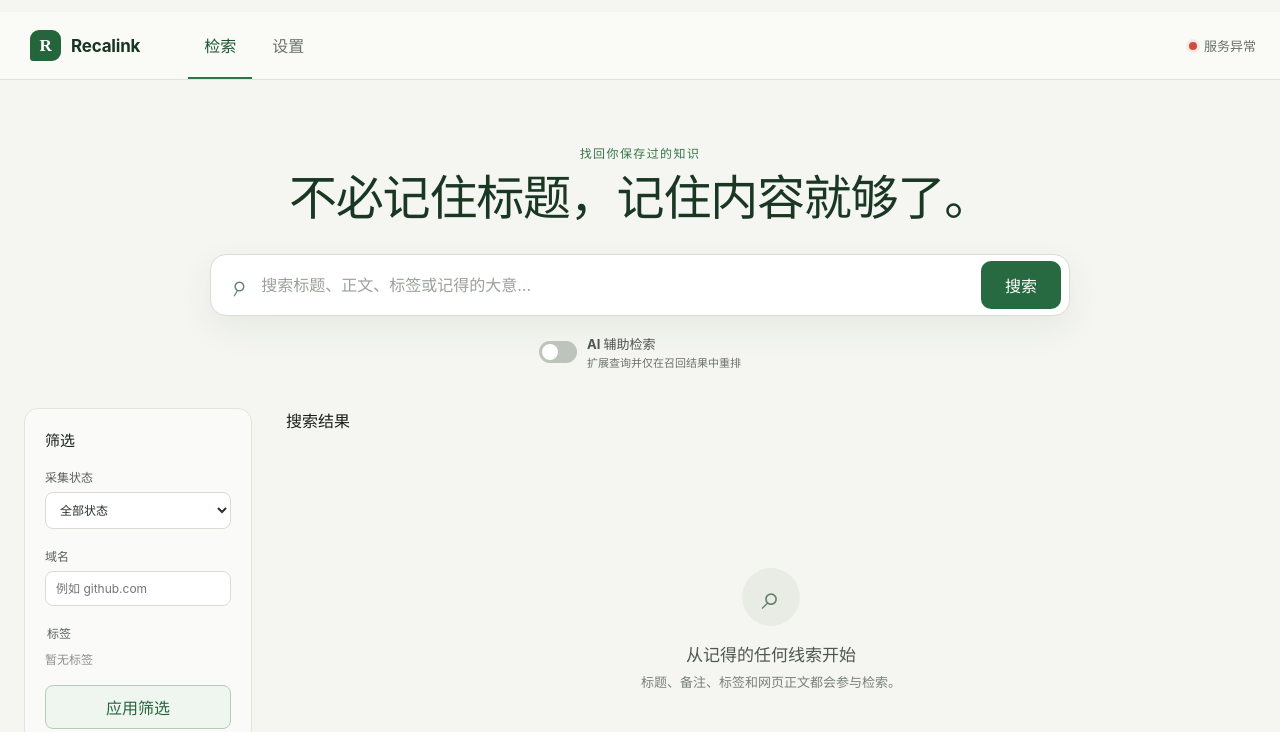
App › searches bookmarks and displays the matched snippet
Expected: the button "R Recalink" is shown, left=24, top=29, right=146, bottom=62
Expected: the text with class "brand-mark" reads "R", left=40, top=36, right=52, bottom=54
Type "索引未使用" into the field with placeholder "搜索标题、正文、标签或记得的大意…" at point(614, 285), box left=259, top=274, right=969, bottom=296
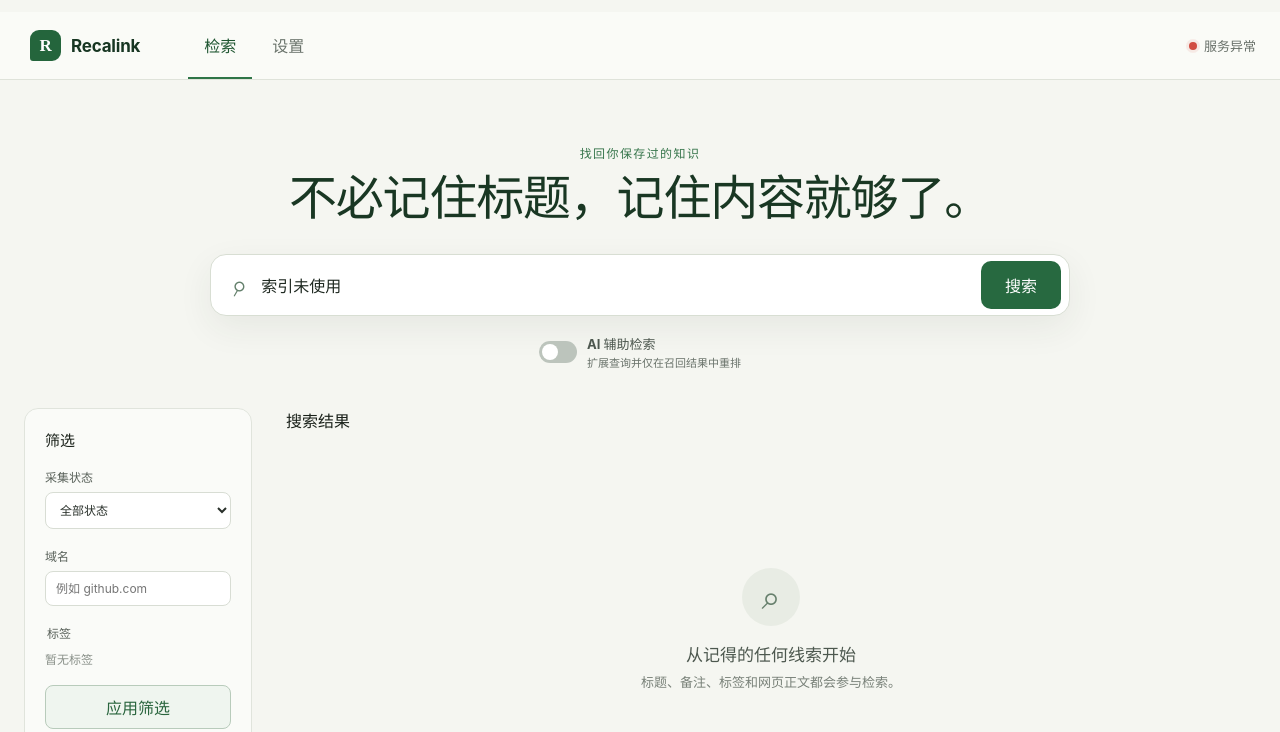
Click the button "搜索" at point(1021, 285), box left=981, top=261, right=1061, bottom=309
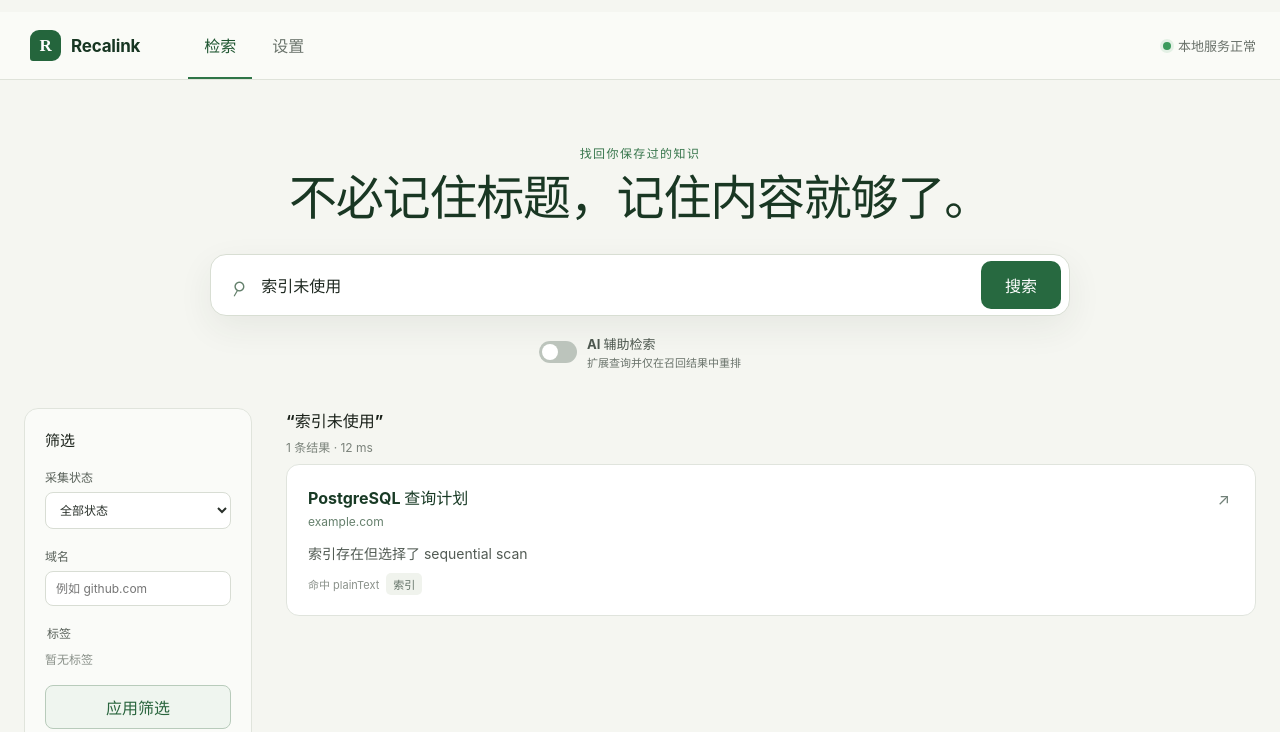
Now the button "PostgreSQL 查询计划" is shown, box left=308, top=485, right=468, bottom=509
Now the text "索引存在但选择了 sequential scan" is shown, box left=308, top=545, right=528, bottom=562
